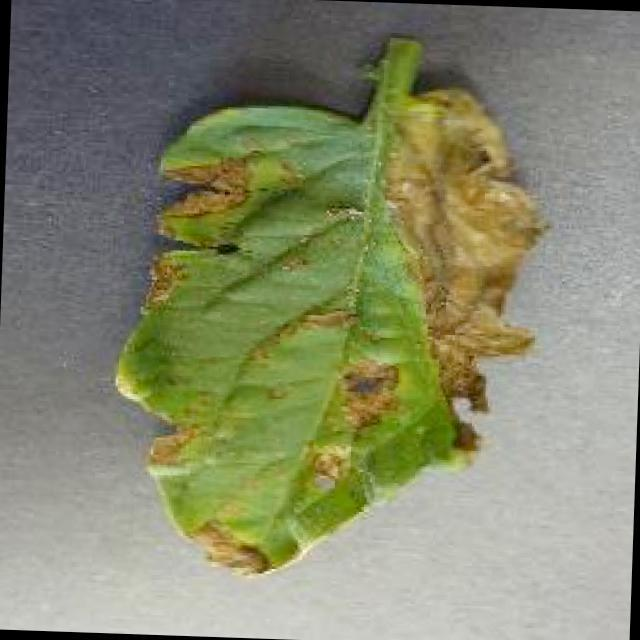Tomato bacterial spot leaf: (103, 70, 556, 594)
